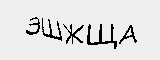А: (117, 23, 139, 48)
Ж: (61, 22, 85, 50)
Ш: (39, 17, 64, 44)
Щ: (86, 22, 118, 50)
Э: (24, 15, 42, 37)
